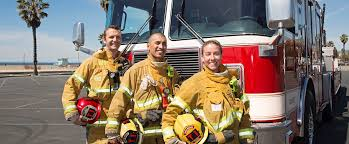emergent: (179, 40, 252, 143), (63, 26, 125, 144), (132, 33, 178, 141)
